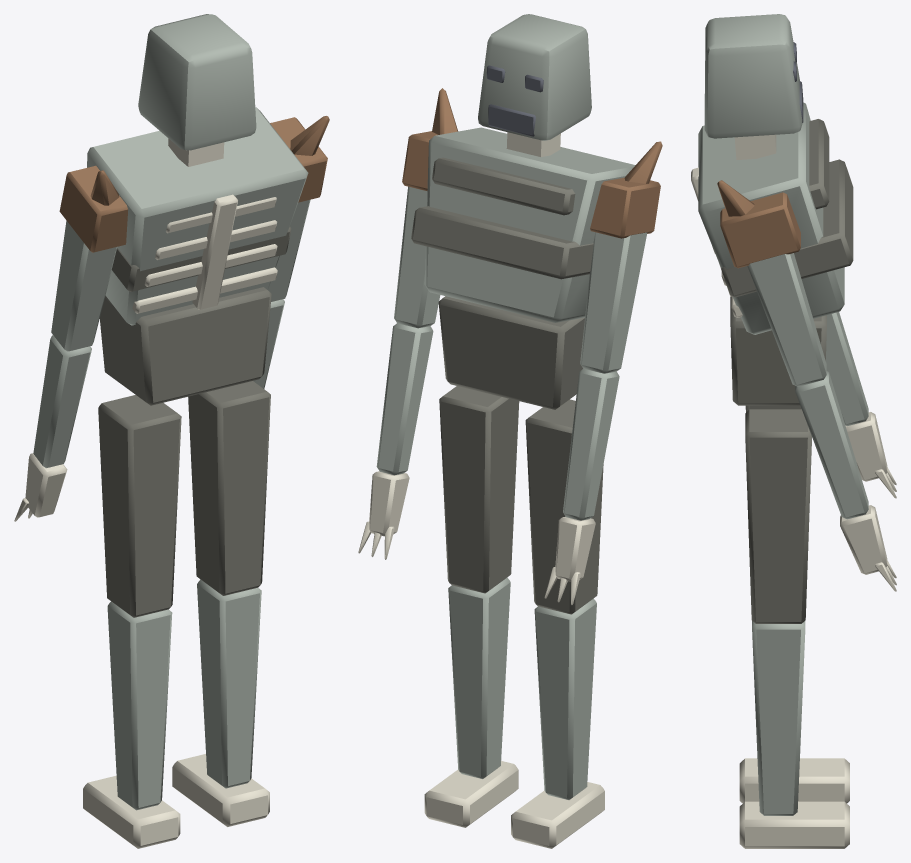
Rendered from draugr.glb.
The picture shows the model from 3 angles, left to right: view 1: azimuth 30°, elevation 25°; view 2: azimuth 150°, elevation 25°; view 3: azimuth 270°, elevation 25°; orthographic projection. The views are drawn at different scales.
Parts seen in each view (by area): view 1: Chest, Thigh_L, Thigh_R, Pelvis, Head, Shin_L, Shin_R, Ribs, UpperArm_L, Forearm_L, Pauldron_L, Foot_R (+7 smaller); view 2: Chest, Thigh_R, Pelvis, Rags, Head, Shin_L, Shin_R, Thigh_L, UpperArm_L, Forearm_L, Forearm_R, Pauldron_L (+8 smaller); view 3: Thigh_R, Chest, Head, Shin_R, Rags, UpperArm_R, Pauldron_R, Forearm_R, Foot_R, Pelvis, Foot_L, Forearm_L (+3 smaller).
Boxes of the visible parts, x1,y1,x2,y2 form: Chest: (87, 107, 308, 325); Thigh_L: (98, 395, 181, 617); Thigh_R: (188, 381, 270, 595); Pelvis: (99, 287, 271, 405); Head: (138, 14, 256, 150); Shin_L: (107, 601, 172, 810); Shin_R: (197, 579, 261, 788); Ribs: (132, 194, 277, 313); UpperArm_L: (51, 220, 117, 351); Forearm_L: (33, 335, 91, 468); Pauldron_L: (59, 165, 128, 252); Foot_R: (172, 754, 269, 826); Chest: (424, 127, 635, 322); Thigh_R: (439, 386, 519, 593); Pelvis: (438, 296, 584, 409); Rags: (411, 157, 593, 279); Head: (478, 14, 591, 140); Shin_L: (534, 598, 596, 799); Shin_R: (448, 577, 510, 778); Thigh_L: (525, 399, 603, 614); UpperArm_L: (580, 232, 647, 373); Forearm_L: (563, 368, 619, 520); Forearm_R: (376, 323, 433, 475); Pauldron_L: (590, 141, 662, 238); Thigh_R: (745, 409, 811, 623); Chest: (698, 102, 844, 334); Head: (704, 14, 802, 138); Shin_R: (752, 621, 805, 815); Rags: (721, 119, 853, 297); UpperArm_R: (747, 253, 826, 386); Pauldron_R: (717, 180, 800, 268); Forearm_R: (795, 371, 868, 519); Foot_R: (739, 801, 849, 848); Pelvis: (730, 297, 826, 405); Foot_L: (739, 758, 849, 803); Forearm_L: (826, 312, 868, 426).
Bounding box in the file's own units: 0.49 × 1.62 × 0.383.
